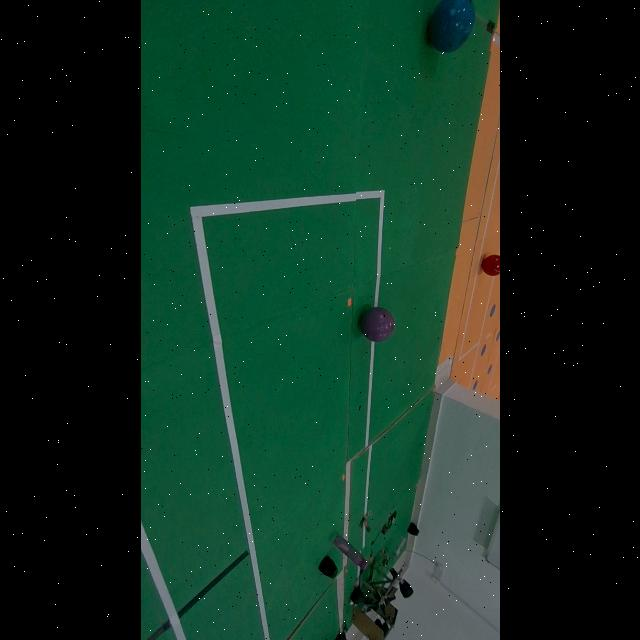B: (428, 0, 476, 53)
P: (359, 307, 394, 343)
R: (482, 255, 500, 276)
